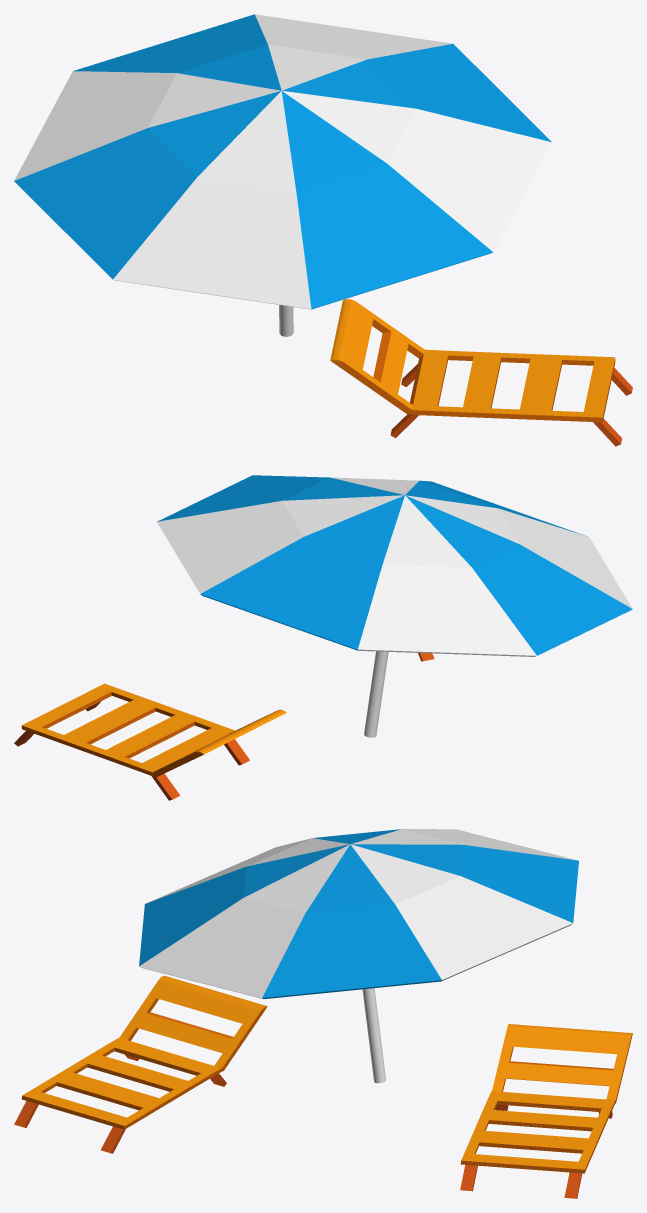
Rendered from CHILL_PLACE_LV1.FBX.
3 renders of one model, top to bottom at view 1: azimuth 30°, elevation 25°; view 2: azimuth 150°, elevation 25°; view 3: azimuth 270°, elevation 25°, orthographic. The views are drawn at different scales.
Visible parts, largest first — view 1: LV_1; view 2: LV_1; view 3: LV_1.
Part boxes in pixels (x1=…): LV_1: x1=14, y1=14, x2=632, y2=446; LV_1: x1=14, y1=475, x2=632, y2=800; LV_1: x1=14, y1=829, x2=632, y2=1198.
Bounding box in the file's own units: 8.47 × 4.08 × 10.03.
1 material, 1 textured.
